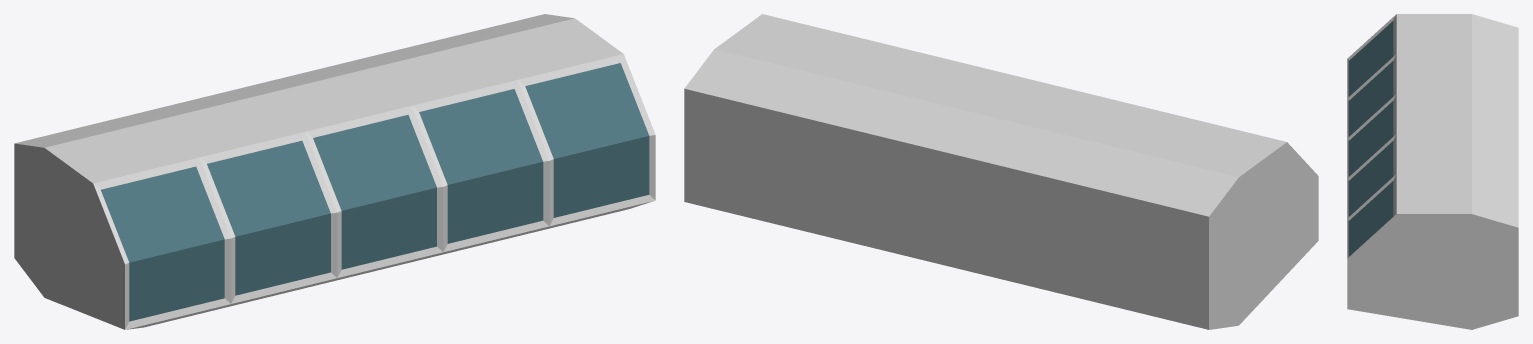
Rendered from BuildingConnector01.fbx.
3 renders of one model, left to right at view 1: azimuth 30°, elevation 25°; view 2: azimuth 150°, elevation 25°; view 3: azimuth 270°, elevation 25°, orthographic. The views are drawn at different scales.
Visible parts, largest first — view 1: Cube; view 2: Cube; view 3: Cube.
Part boxes in pixels (x1,y1,x2,y2): Cube: (14, 14, 655, 329); Cube: (684, 14, 1318, 329); Cube: (1347, 14, 1518, 329).
Bounding box in the file's own units: 114 × 31.4 × 41.14.
